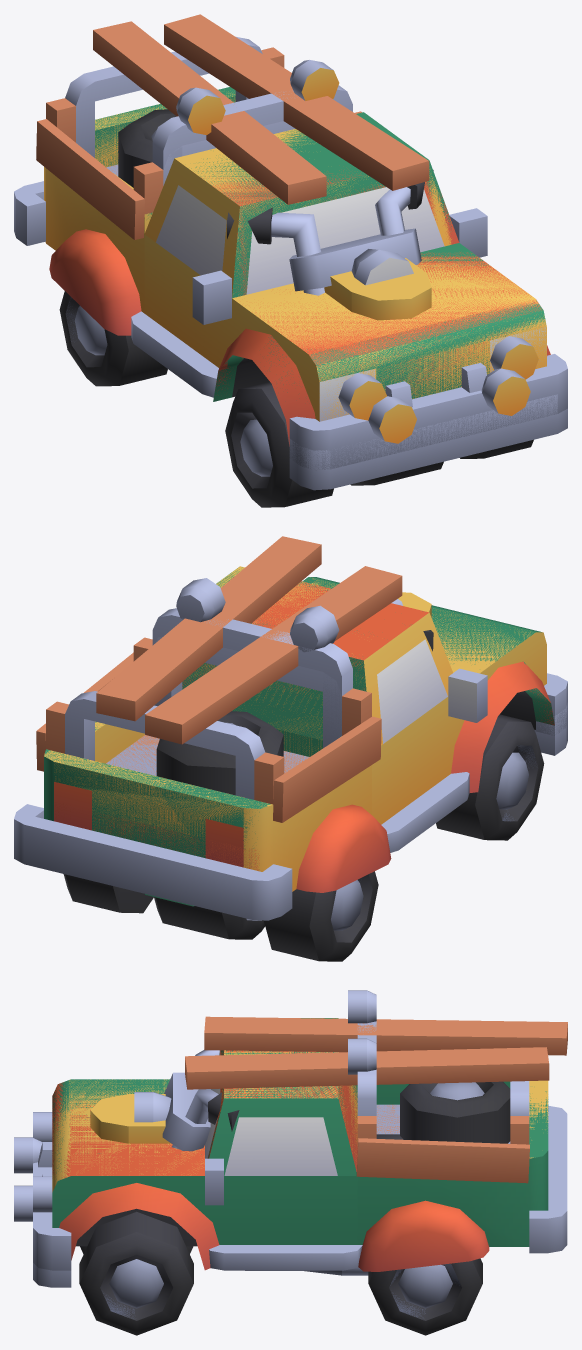
The model's file is vehicles.glb.
The picture shows the model from 3 angles, top to bottom: view 1: azimuth 30°, elevation 25°; view 2: azimuth 150°, elevation 25°; view 3: azimuth 270°, elevation 25°; orthographic projection. The views are drawn at different scales.
Parts seen in each view (by area): view 1: body (×3), fork, wheel-front-right, wheel-back-right, wheel-front; view 2: body (×3), wheel-front-right, wheel-back-right, wheel-back, wheel-back-left; view 3: body (×4), wheel-front-left, wheel-back-left (×2), fork.
Boxes of the visible parts, x1=… form: body (×3): x1=14, y1=14, x2=567, y2=490; fork: x1=227, y1=170, x2=433, y2=295; wheel-front-right: x1=225, y1=381, x2=333, y2=507; wheel-back-right: x1=59, y1=291, x2=167, y2=386; wheel-front: x1=350, y1=461, x2=443, y2=485; body (×3): x1=14, y1=536, x2=567, y2=920; wheel-front-right: x1=436, y1=714, x2=544, y2=840; wheel-back-right: x1=264, y1=871, x2=378, y2=961; wheel-back: x1=154, y1=897, x2=264, y2=939; wheel-back-left: x1=63, y1=874, x2=153, y2=913; body (×4): x1=14, y1=990, x2=567, y2=1287; wheel-front-left: x1=79, y1=1211, x2=193, y2=1335; wheel-back-left (×2): x1=368, y1=1258, x2=482, y2=1335; fork: x1=134, y1=1050, x2=239, y2=1151.
Size of the model in its own units: 1.5 by 1.55 by 2.9.
2 materials, 2 textured.
